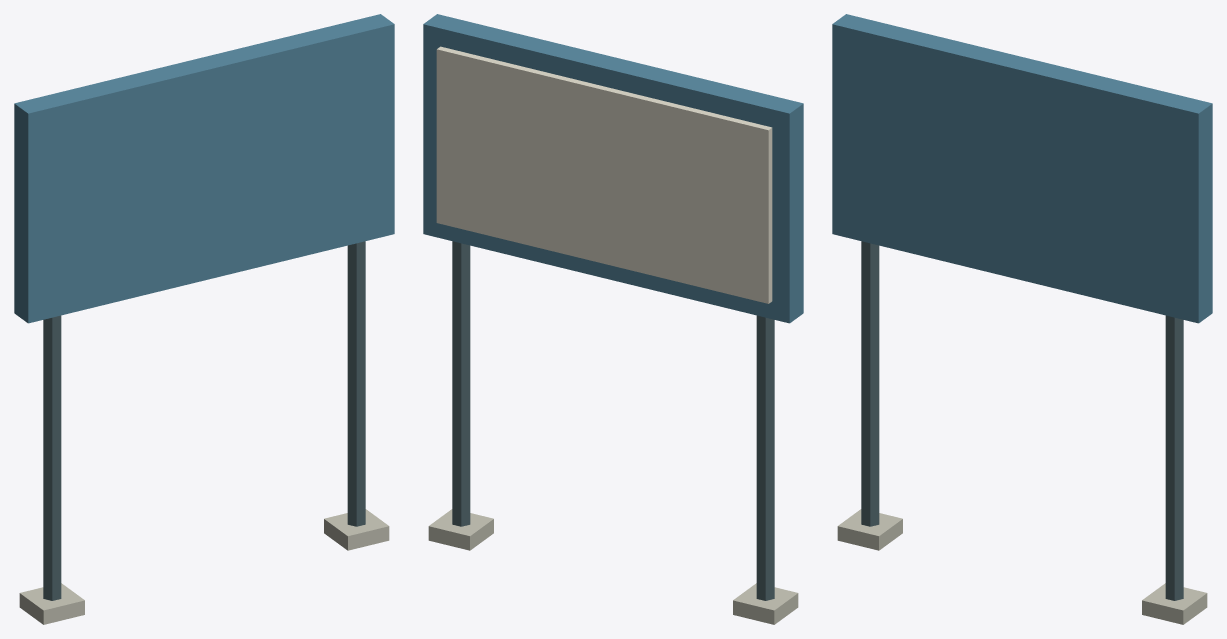
File: KOL_HBR_PROP_10.fbx
3 views of the same model, side by side, from view 1: azimuth 30°, elevation 25°; view 2: azimuth 150°, elevation 25°; view 3: azimuth 330°, elevation 25° (orthographic).
Parts seen in each view (by area): view 1: KOL_HBR_PROP_10__Model__Blue, KOL_HBR_PROP_10__Model__DarkSteel, KOL_HBR_PROP_10__Model__Concrete; view 2: KOL_HBR_PROP_10__Model__White, KOL_HBR_PROP_10__Model__Blue, KOL_HBR_PROP_10__Model__DarkSteel, KOL_HBR_PROP_10__Model__Concrete; view 3: KOL_HBR_PROP_10__Model__Blue, KOL_HBR_PROP_10__Model__DarkSteel, KOL_HBR_PROP_10__Model__Concrete.
Part boxes in pixels (left/top/right/bottom): KOL_HBR_PROP_10__Model__Blue: left=14, top=14, right=394, bottom=323; KOL_HBR_PROP_10__Model__DarkSteel: left=43, top=241, right=365, bottom=600; KOL_HBR_PROP_10__Model__Concrete: left=19, top=509, right=389, bottom=624; KOL_HBR_PROP_10__Model__White: left=436, top=46, right=772, bottom=303; KOL_HBR_PROP_10__Model__Blue: left=423, top=14, right=803, bottom=323; KOL_HBR_PROP_10__Model__DarkSteel: left=452, top=241, right=774, bottom=600; KOL_HBR_PROP_10__Model__Concrete: left=428, top=509, right=798, bottom=624; KOL_HBR_PROP_10__Model__Blue: left=832, top=14, right=1212, bottom=323; KOL_HBR_PROP_10__Model__DarkSteel: left=861, top=241, right=1183, bottom=600; KOL_HBR_PROP_10__Model__Concrete: left=837, top=509, right=1207, bottom=624.
Bounding box in the file's own units: 5.3 × 7.05 × 0.6.
